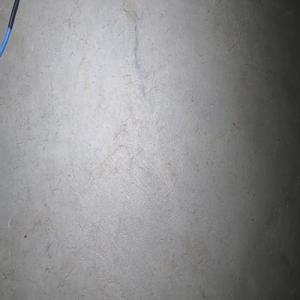Wire: (0, 0, 20, 57)
